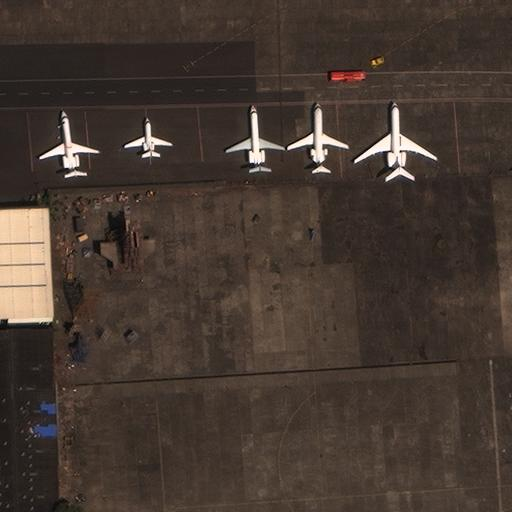Medium Civil Transport: (354, 102, 436, 175), (287, 104, 348, 172), (225, 104, 284, 172), (39, 111, 97, 176), (124, 117, 172, 156)
